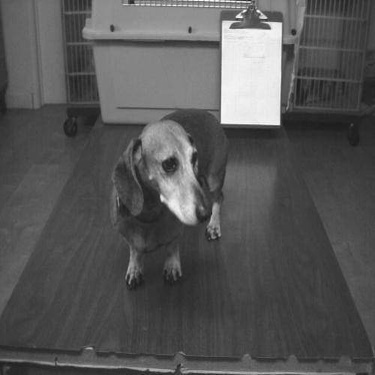dog: (107, 104, 234, 292), (287, 56, 355, 108)
